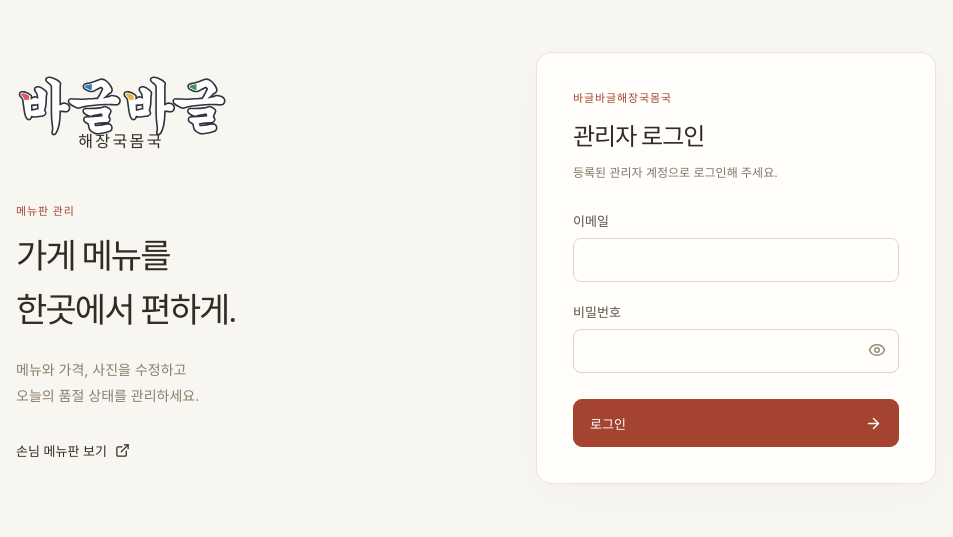
Test: administrator authentication › shows invalid-login feedback and clears the password
expect the heading "관리자 로그인" is shown: met, box x1=573 y1=122 x2=704 y2=151
Type "admin@example.test" into the field labelled "이메일" at (736, 260), box x1=573 y1=238 x2=899 y2=282
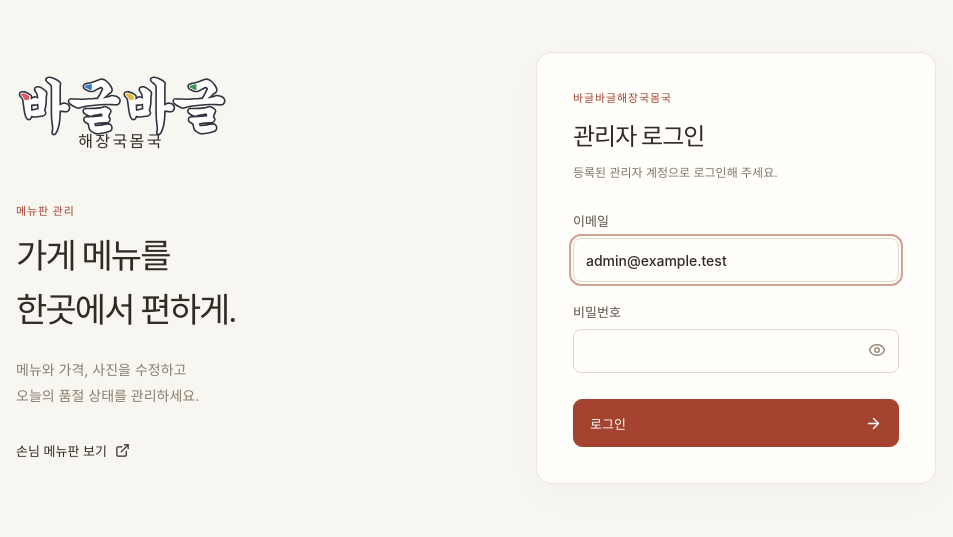
Type "test-password-only" into the password field labelled "비밀번호" at (736, 351), box x1=573 y1=329 x2=899 y2=373
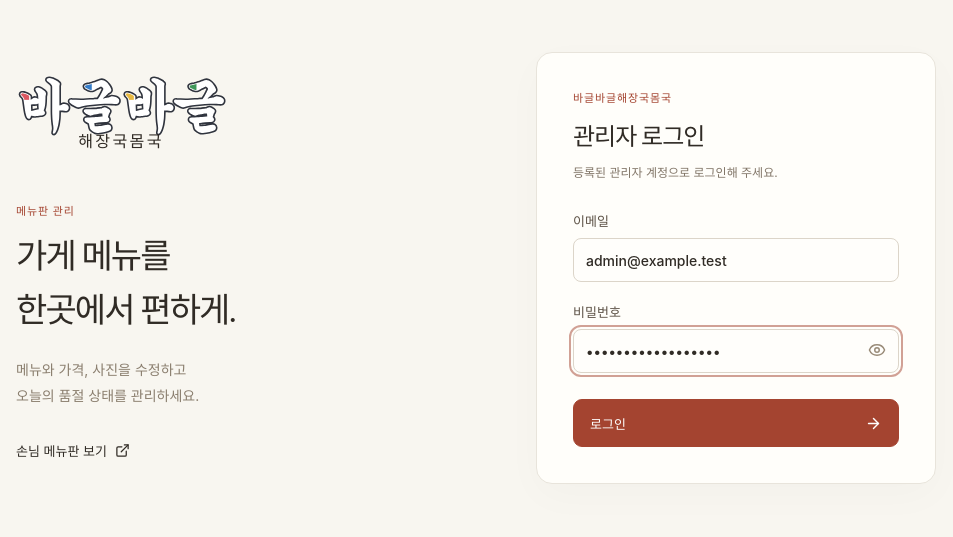
Click the button "로그인" at (608, 424), box x1=573 y1=399 x2=899 y2=447
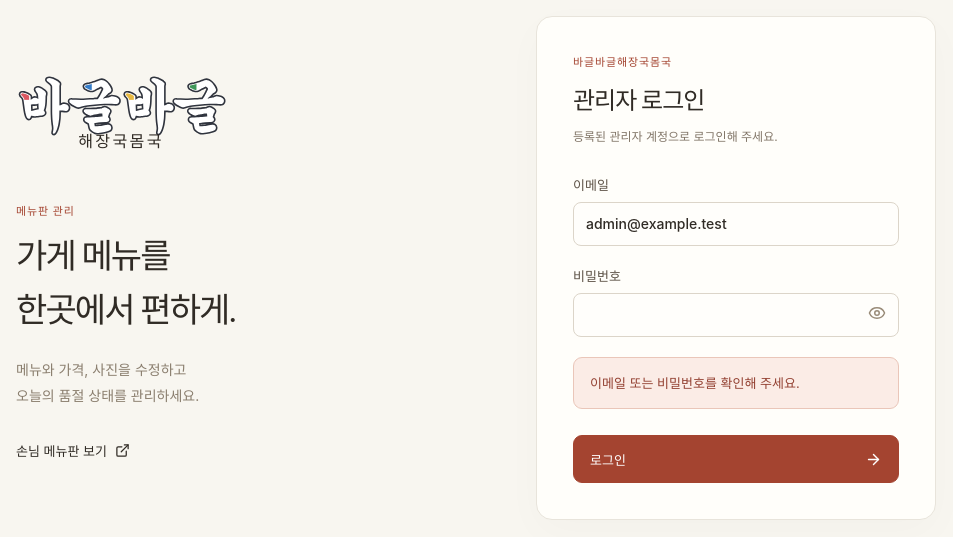
expect the message shows "이메일 또는 비밀번호": met, box x1=590 y1=375 x2=800 y2=391
expect the password field labelled "비밀번호" is empty: met, box x1=573 y1=293 x2=899 y2=337
